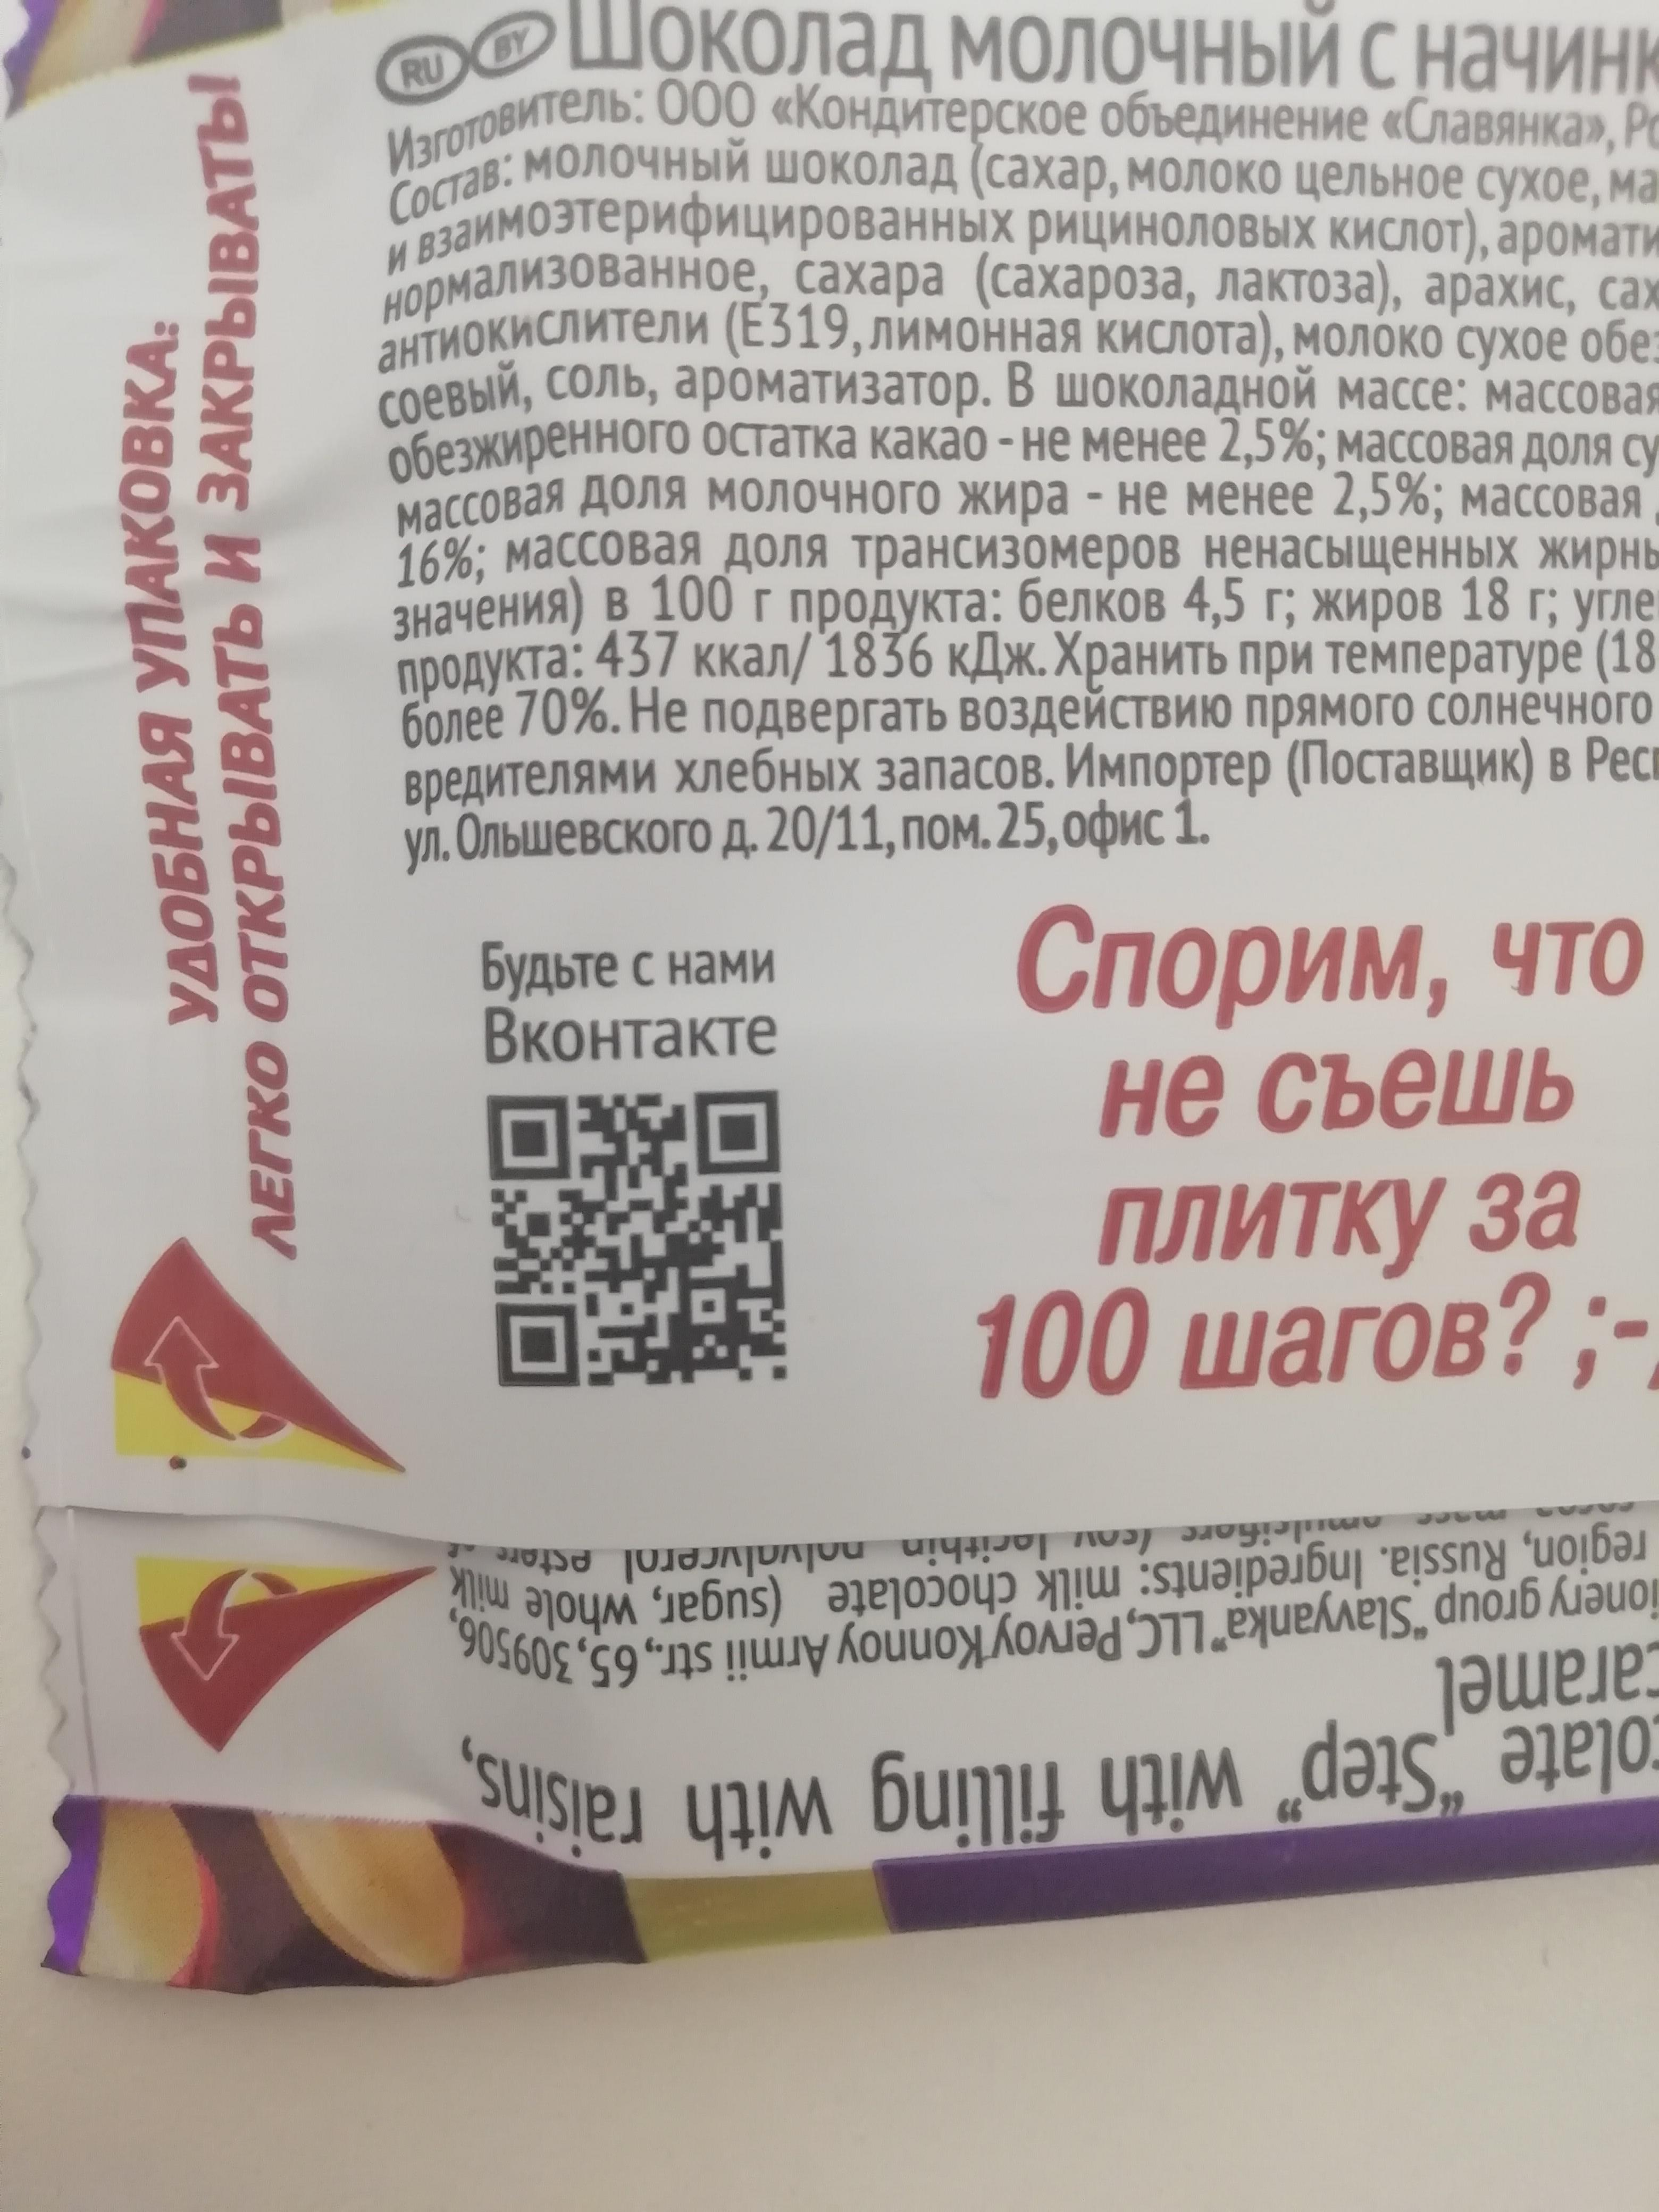qrcode: (486, 1089, 789, 1392)
